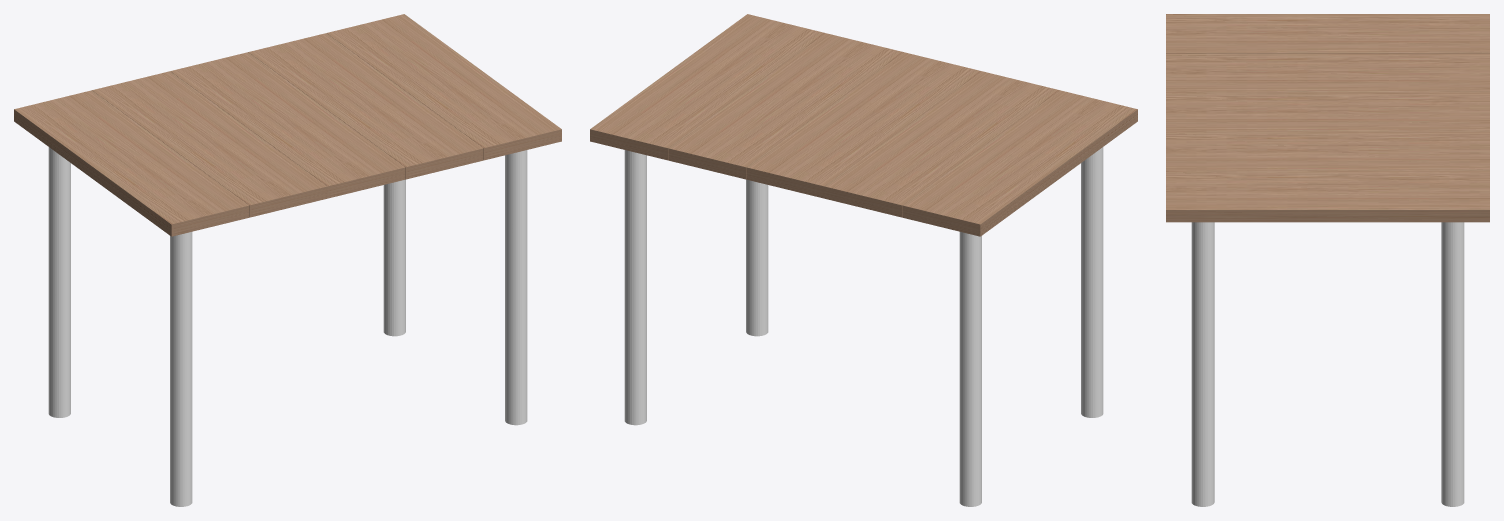
Rendered from blanca_bosque.glb.
3 renders of one model, left to right at view 1: azimuth 30°, elevation 25°; view 2: azimuth 150°, elevation 25°; view 3: azimuth 270°, elevation 25°, orthographic. The views are drawn at different scales.
Parts seen in each view (by area): view 1: MES_Tabla_1, MES_Tabla_4, MES_Tabla_2, MES_Tabla_5, MES_Tabla_3, MES_Pata_3, MES_Pata_1, MES_Pata_2, MES_Pata_4; view 2: MES_Tabla_1, MES_Tabla_4, MES_Tabla_2, MES_Tabla_5, MES_Tabla_3, MES_Pata_4, MES_Pata_2, MES_Pata_1, MES_Pata_3; view 3: MES_Tabla_5, MES_Tabla_1, MES_Tabla_2, MES_Tabla_3, MES_Tabla_4, MES_Pata_3, MES_Pata_4.
Part boxes in pixels (<box>): MES_Tabla_1: <box>14,90,249,236</box>; MES_Tabla_4: <box>248,33,483,179</box>; MES_Tabla_2: <box>92,71,327,217</box>; MES_Tabla_5: <box>327,14,561,160</box>; MES_Tabla_3: <box>170,52,405,198</box>; MES_Pata_3: <box>505,150,527,425</box>; MES_Pata_1: <box>170,232,192,506</box>; MES_Pata_2: <box>48,147,70,417</box>; MES_Pata_4: <box>383,179,405,336</box>; MES_Tabla_1: <box>902,90,1137,236</box>; MES_Tabla_4: <box>668,33,903,179</box>; MES_Tabla_2: <box>824,71,1059,217</box>; MES_Tabla_5: <box>590,14,824,160</box>; MES_Tabla_3: <box>746,52,981,198</box>; MES_Pata_4: <box>624,150,646,425</box>; MES_Pata_2: <box>959,232,981,506</box>; MES_Pata_1: <box>1081,147,1103,417</box>; MES_Pata_3: <box>746,179,768,336</box>; MES_Tabla_5: <box>1166,170,1489,222</box>; MES_Tabla_1: <box>1166,14,1489,53</box>; MES_Tabla_2: <box>1166,53,1489,92</box>; MES_Tabla_3: <box>1166,92,1489,131</box>; MES_Tabla_4: <box>1166,131,1489,170</box>; MES_Pata_3: <box>1191,222,1214,506</box>; MES_Pata_4: <box>1441,222,1464,506</box>.
Bounding box in the file's own units: 1 × 0.73 × 0.7.
Materials: 2 (1 with a texture image).
